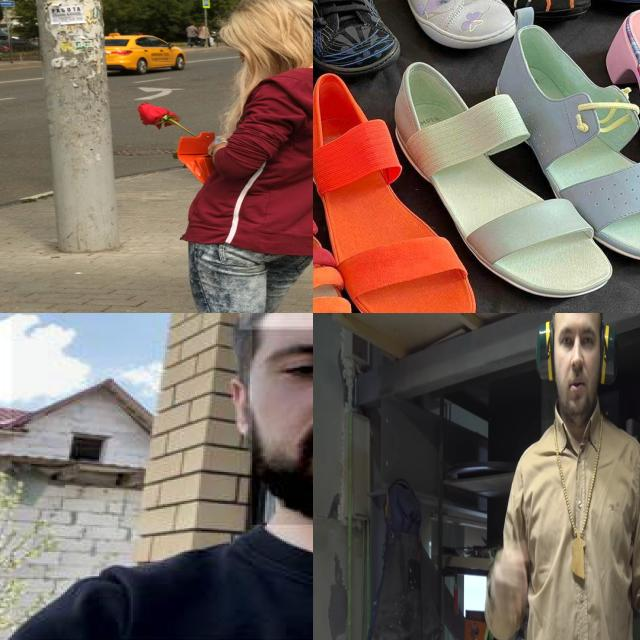Ear-protection: (531, 313, 622, 432)
No_Ear-Protection: (213, 369, 273, 433)
No_Glasses: (255, 319, 313, 393), (558, 320, 598, 358)
Sandals: (376, 47, 630, 310), (313, 64, 492, 313), (474, 12, 640, 280), (313, 96, 374, 313), (313, 0, 412, 86), (370, 0, 520, 53)
face_nomask: (252, 326, 313, 524)
person: (12, 313, 313, 640), (480, 313, 640, 640)
